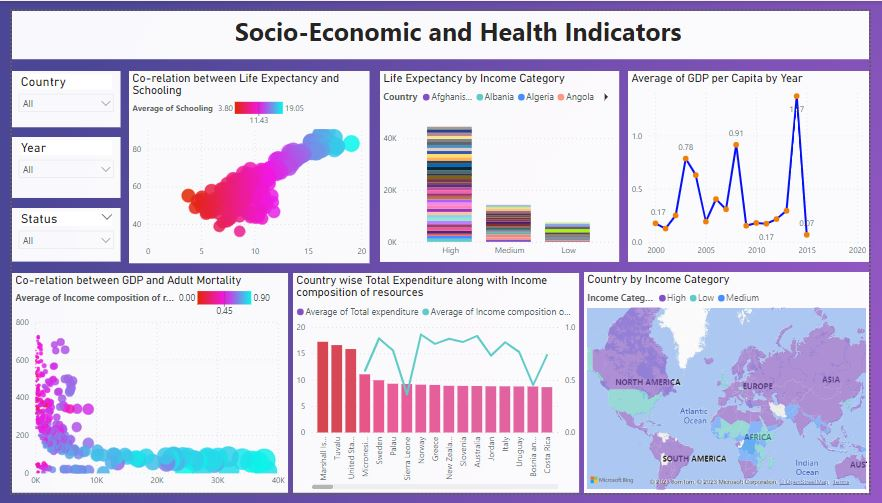

The dashboard page shown, as its layout file describes it:
{"tool":"powerbi","page":{"name":"Socio-Economic and health indicators ","canvas":[1280,720],"ordinal":5},"visuals":[{"type":"columnChart","title":"Life Expectancy by Income Category","fields":{"Category":["Life Expectancy Data.Income Category"],"Y":["Sum(Life Expectancy Data.Life expectancy )"],"Series":["Life Expectancy Data.Country"]},"box":[549.3,89.3,357.3,285.3],"z":0},{"type":"lineClusteredColumnComboChart","title":"Country wise Total Expenditure along with Income  composition of resources","fields":{"Category":["Life Expectancy Data.Country"],"Y":["Avg(Life Expectancy Data.Total expenditure)"],"Y2":["Avg(Life Expectancy Data.Income composition of resources)"]},"box":[419.5,391,426.7,328.5],"z":1000},{"type":"lineChart","fields":{"Category":["Life Expectancy Data.Year"],"Y":["Avg(Life Expectancy Data.GDP per Capita)"]},"box":[920,89.3,360,285.3],"z":2000},{"type":"scatterChart","title":"Co-relation between Life Expectancy and Schooling","fields":{"X":["Avg(Life Expectancy Data.Schooling)"],"Y":["Life Expectancy Data.Life expectancy "],"Size":["Avg(Life Expectancy Data.Life expectancy )1"]},"box":[175,89.3,358.8,287.4],"z":3000},{"type":"filledMap","title":" Country by Income Category","fields":{"Category":["Life Expectancy Data.Country"],"Series":["Life Expectancy Data.Income Category"]},"box":[853.9,390.2,426.2,329.8],"z":4000},{"type":"slicer","fields":{"Values":["Life Expectancy Data.Country"]},"box":[0,89.3,162.5,83.9],"z":5000},{"type":"slicer","fields":{"Values":["Life Expectancy Data.Year"]},"box":[0,187.4,162.5,91],"z":6000},{"type":"slicer","fields":{"Values":["Life Expectancy Data.Status"]},"box":[0,294.6,162.5,80.3],"z":7000},{"type":"textbox","box":[0,0,1280.2,72],"z":8000},{"type":"scatterChart","title":"Co-relation between GDP and Adult Mortality","fields":{"Y":["Life Expectancy Data.Adult Mortality"],"Size":["Avg(Life Expectancy Data.GDP)"],"X":["Avg(Life Expectancy Data.GDP)"]},"box":[0,391,412.4,328.5],"z":9000}]}

Visuals, with their boxes in screenshot pixels (x1, y1, x2, y2), scaled from the page's 1280x720 canvas onto the 882x503 screenshot:
"Life Expectancy by Income Category" columnChart: <box>379,62,625,262</box>
"Country wise Total Expenditure along with Income  composition of resources" lineClusteredColumnComboChart: <box>289,273,583,502</box>
lineChart - Life Expectancy Data.Year x Avg(Life Expectancy Data.GDP per Capita): <box>634,62,881,262</box>
"Co-relation between Life Expectancy and Schooling" scatterChart: <box>121,62,368,263</box>
" Country by Income Category" filledMap: <box>588,273,881,502</box>
slicer - Life Expectancy Data.Country: <box>0,62,112,121</box>
slicer - Life Expectancy Data.Year: <box>0,131,112,194</box>
slicer - Life Expectancy Data.Status: <box>0,206,112,262</box>
textbox: <box>0,0,881,50</box>
"Co-relation between GDP and Adult Mortality" scatterChart: <box>0,273,284,502</box>
